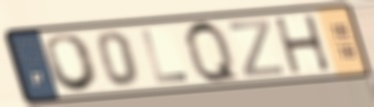0: (94, 29, 144, 90)
H: (271, 12, 334, 77)
L: (138, 28, 191, 85)
O: (42, 32, 104, 94)
Q: (182, 18, 245, 86)
Z: (226, 16, 287, 79)
